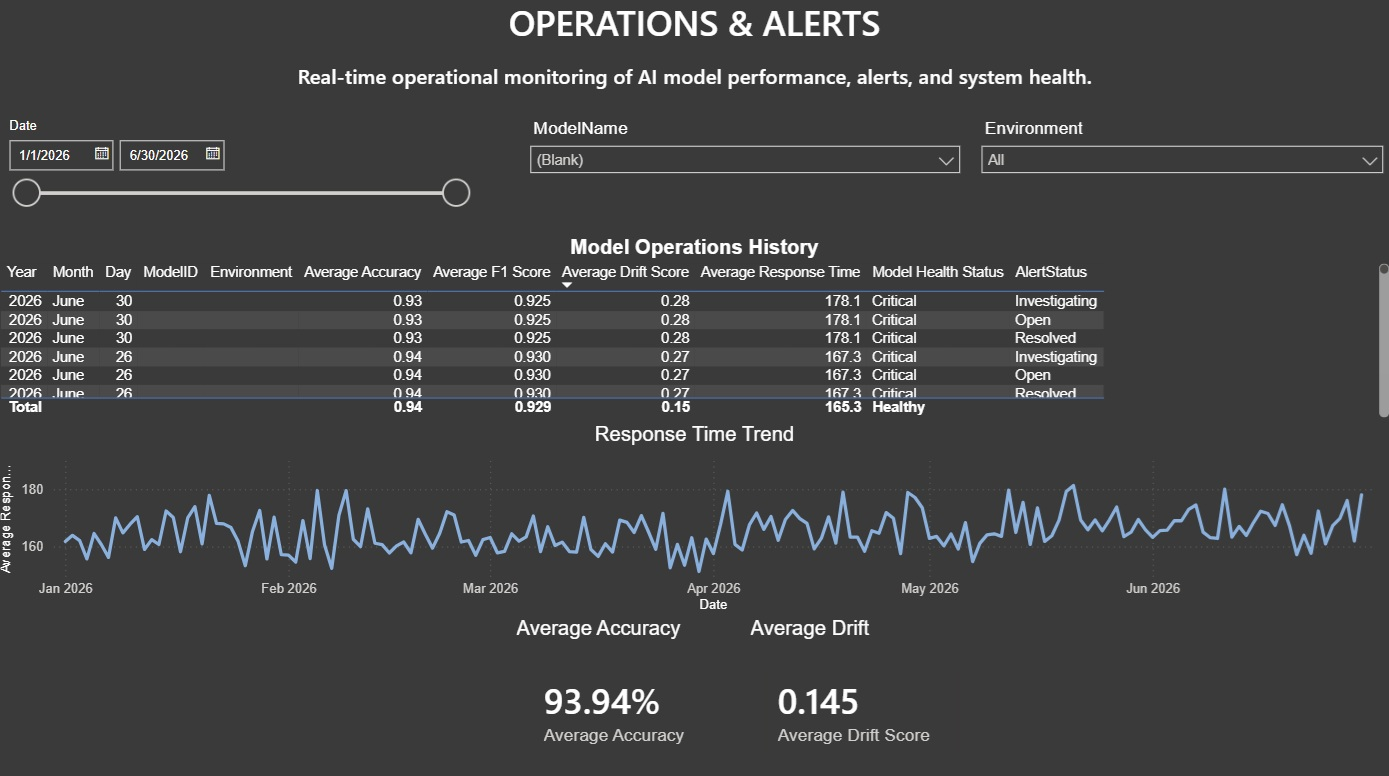

Layout of this report page (visuals, bound fields, positions):
{"tool":"powerbi","page":{"name":"Operations & Alerts","canvas":[1280,720],"ordinal":2},"visuals":[{"type":"textbox","box":[0,0,1280.4,58],"z":0},{"type":"slicer","fields":{"Values":["DimDateTable.Date"]},"box":[0,109.8,442.6,102.1],"z":1000},{"type":"slicer","fields":{"Values":["DimModelTable.Environment"]},"box":[892.9,109.8,387.7,102.1],"z":2000},{"type":"slicer","fields":{"Values":["DimModelTable.ModelName"]},"box":[479.9,109.8,412.9,102.1],"z":3000},{"type":"tableEx","title":"Model Operations History","fields":{"Values":["DimDateTable.Date.Variation.Date Hierarchy.Year","DimDateTable.Date.Variation.Date Hierarchy.Month","DimDateTable.Date.Variation.Date Hierarchy.Day","DimModelTable.ModelID","DimModelTable.Environment","DimDateTable.Average Accuracy","DimDateTable.Average F1 Score","DimDateTable.Average Drift Score","DimDateTable.Average Response Time","DimDateTable.Model Health Status","FactAlerts.AlertStatus"]},"box":[0,221.8,1280.5,171.3],"z":4000},{"type":"lineChart","title":"Response Time Trend","fields":{"Category":["DimDateTable.Date"],"Y":["DimDateTable.Average Response Time"]},"box":[0,393.2,1280.5,177.9],"z":5000},{"type":"cardVisual","title":"Average Accuracy","fields":{"Data":["DimDateTable.Average Accuracy"]},"box":[472.2,571.1,214.2,149.4],"z":5001},{"type":"cardVisual","title":"Average Drift","fields":{"Data":["DimDateTable.Average Drift Score"]},"box":[686.4,571.1,214.2,149.4],"z":5002},{"type":"textbox","box":[0,58.2,1280.5,51.6],"z":5003}]}

Visuals, with their boxes in screenshot pixels (x1, y1, x2, y2), scaled from the page's 1280x720 canvas onto the 1389x776 screenshot:
textbox: (0,0,1388,63)
slicer - DimDateTable.Date: (0,118,480,228)
slicer - DimModelTable.Environment: (969,118,1388,228)
slicer - DimModelTable.ModelName: (521,118,969,228)
"Model Operations History" tableEx: (0,239,1388,424)
"Response Time Trend" lineChart: (0,424,1388,616)
"Average Accuracy" cardVisual: (512,616,745,775)
"Average Drift" cardVisual: (745,616,977,775)
textbox: (0,63,1388,118)
